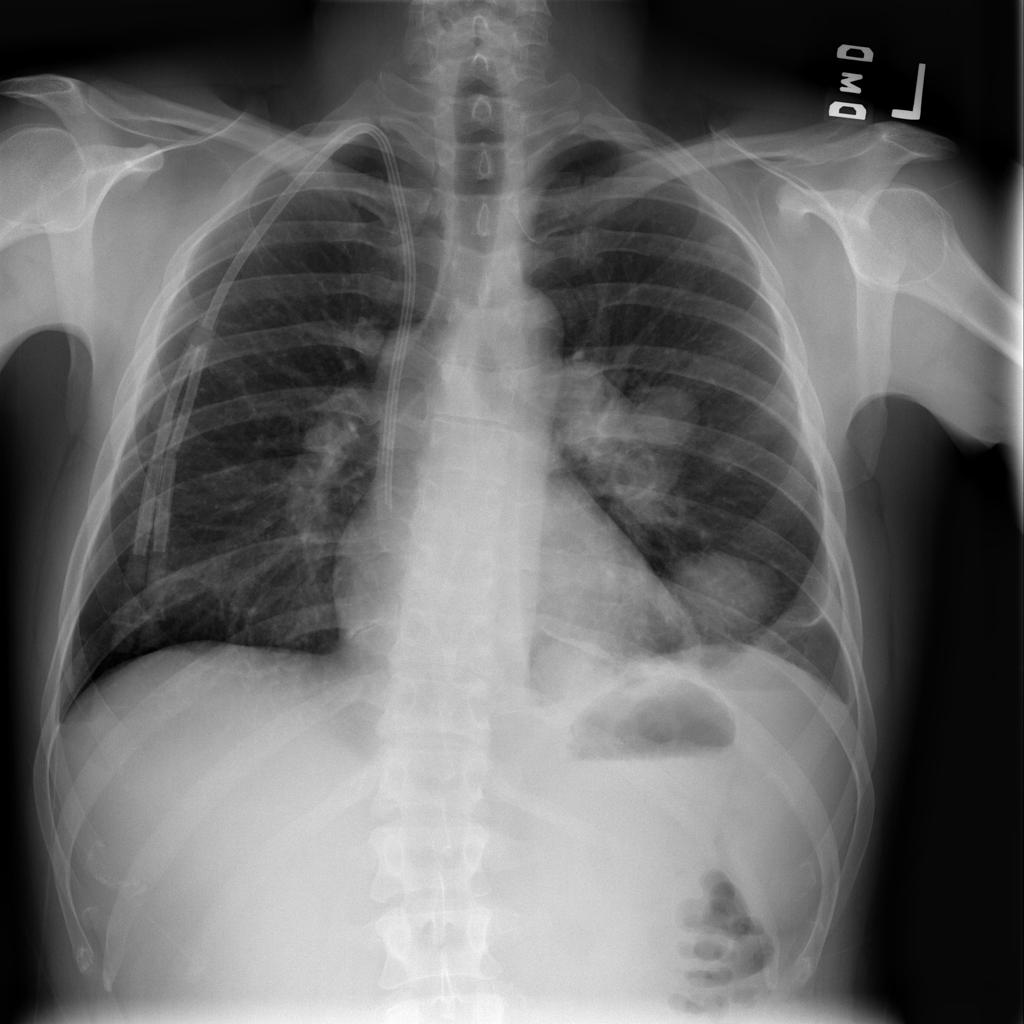nodule: (648, 540, 786, 655), (624, 375, 707, 459), (690, 215, 760, 285)
